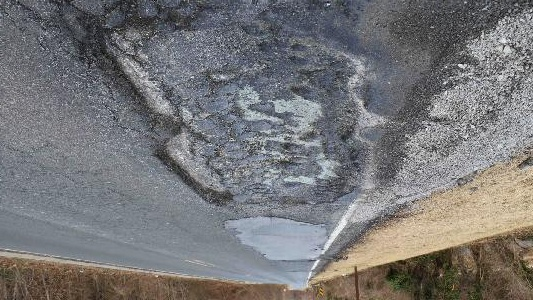pothole: (80, 6, 369, 211)
